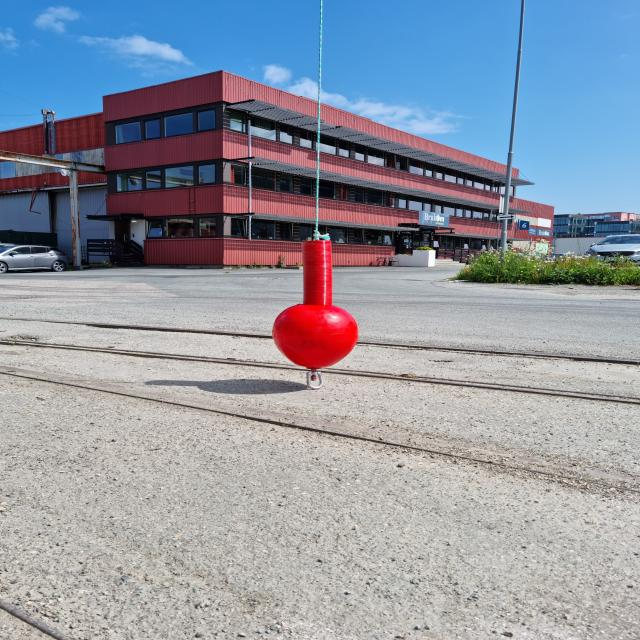red: (271, 241, 359, 369)
